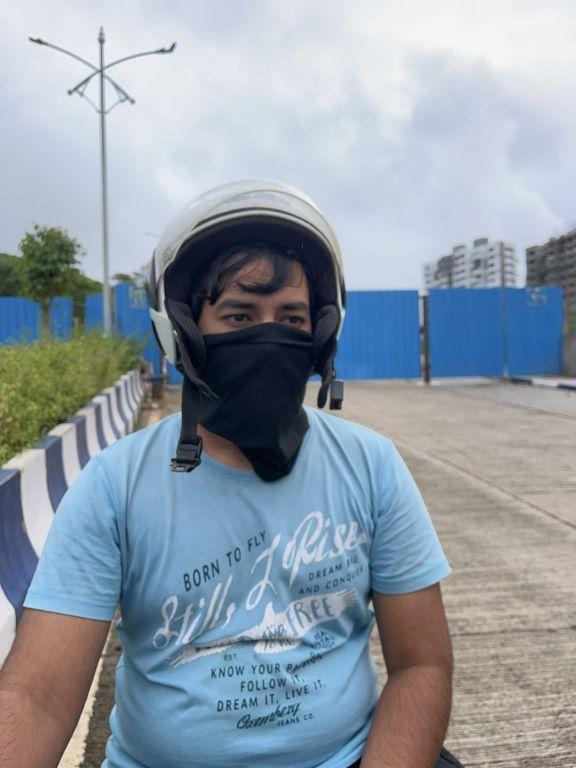helmet: (139, 169, 354, 451)
